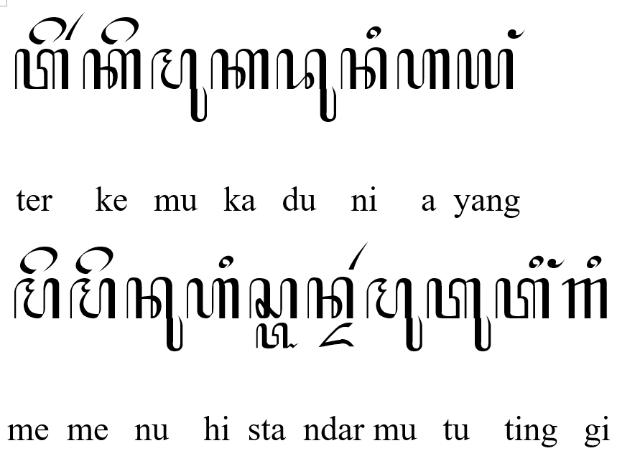_d: (318, 321, 354, 348)
_r1: (64, 11, 86, 41), (348, 241, 368, 271)
_t: (255, 324, 299, 350)
du: (276, 48, 336, 121)
e: (28, 16, 68, 46), (100, 16, 140, 46), (18, 246, 58, 276), (74, 247, 114, 276)
g: (562, 278, 608, 320)
h: (396, 48, 450, 90), (186, 278, 240, 320)
i: (586, 255, 602, 271), (366, 25, 382, 39), (218, 256, 234, 270), (528, 255, 544, 269)
k: (81, 48, 142, 90), (211, 48, 269, 90)
m: (12, 277, 60, 321), (68, 278, 115, 320)
mu: (150, 47, 208, 123), (366, 278, 422, 352)
n: (339, 46, 386, 90), (308, 277, 354, 321)
ng: (506, 27, 526, 39), (548, 257, 566, 269)
nu: (125, 276, 183, 352)
s: (248, 278, 298, 320)
t: (15, 48, 70, 90), (496, 278, 550, 320)
tu: (426, 278, 490, 352)
y: (456, 48, 514, 92)
